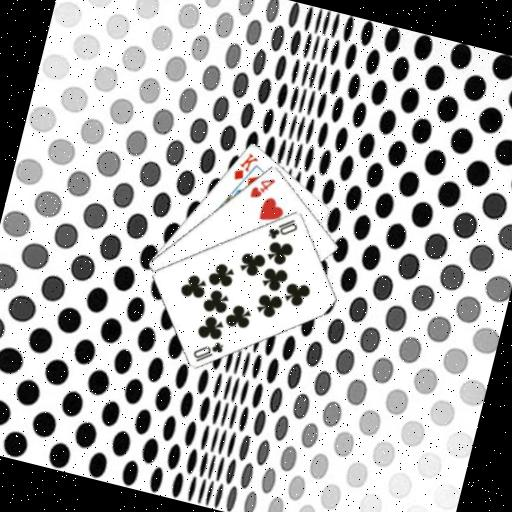10C: (188, 333, 227, 369), (264, 211, 302, 246)
4H: (246, 170, 279, 204)
KD: (229, 147, 261, 186)
